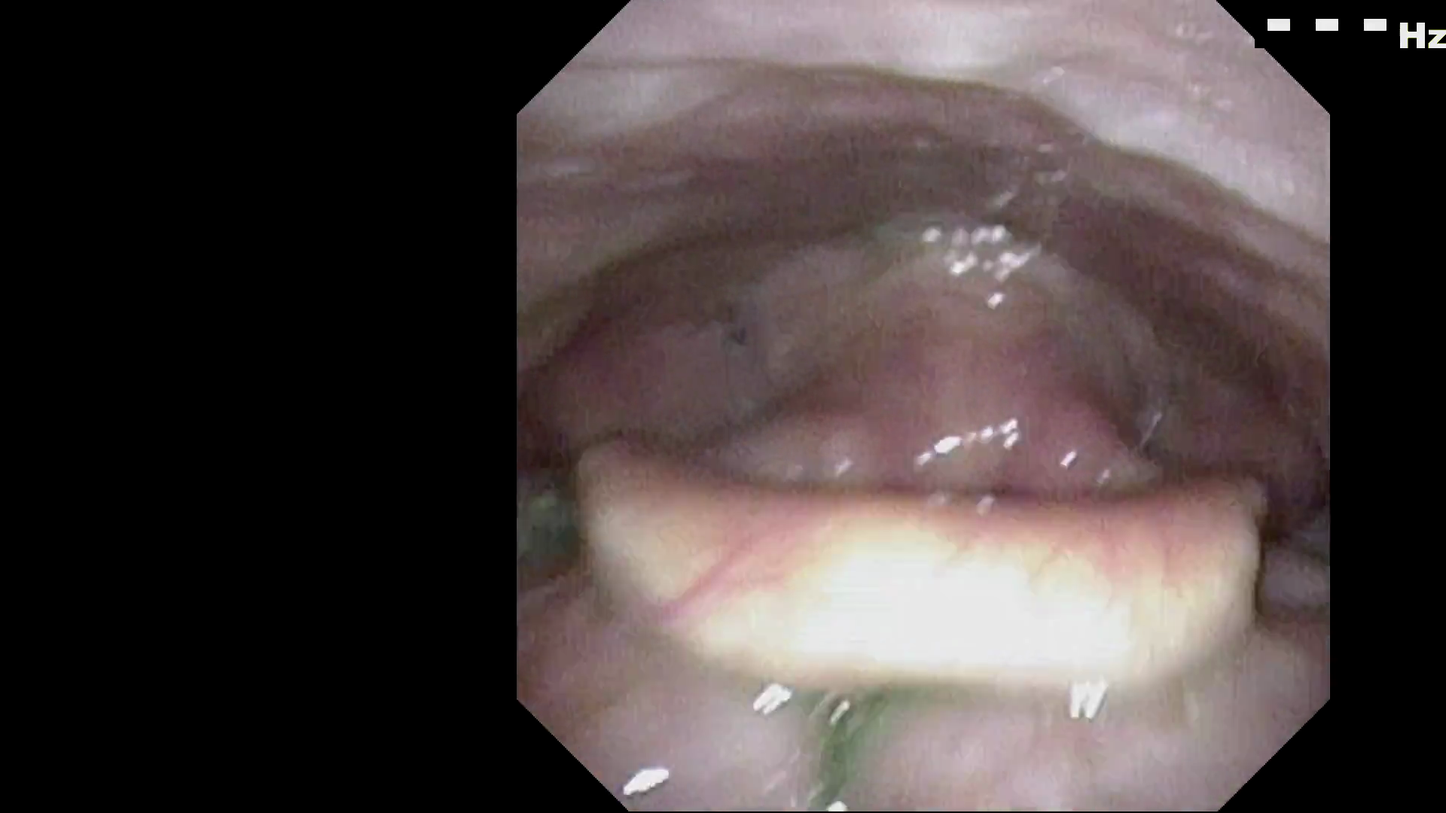epiglottis: (558, 491, 1296, 773)
trachea: (866, 429, 1032, 622)
